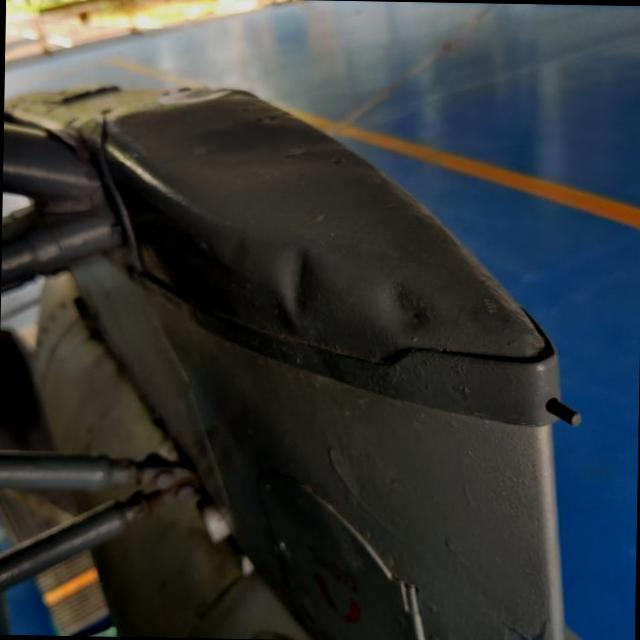dent: (280, 240, 322, 325), (378, 280, 432, 338)
